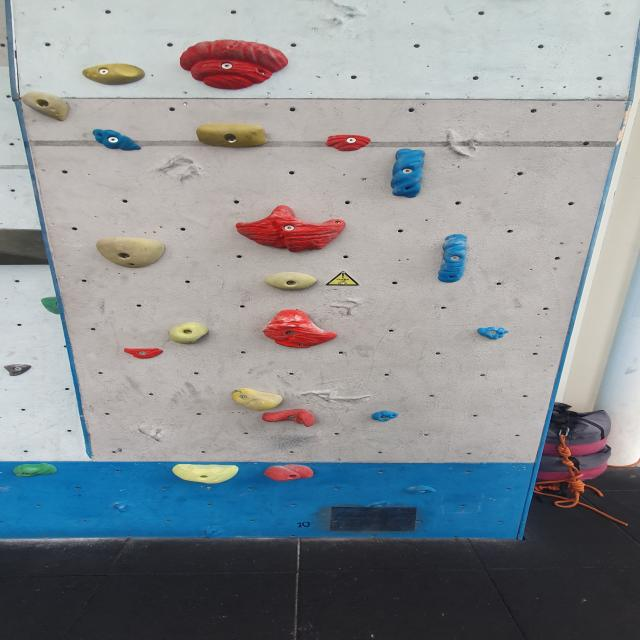Crimp: (79, 63, 148, 86), (172, 462, 242, 484), (90, 130, 143, 150), (323, 135, 373, 151), (12, 462, 61, 477), (122, 348, 165, 359), (475, 327, 511, 339), (0, 362, 32, 374), (370, 412, 401, 422)
Jug: (176, 40, 292, 89), (234, 206, 349, 254), (260, 311, 338, 350), (94, 238, 170, 270), (196, 124, 272, 150), (19, 93, 72, 123), (258, 406, 321, 429), (264, 272, 320, 292), (167, 323, 212, 346)
Pinch: (389, 150, 428, 199), (440, 232, 470, 284)
Sloper: (231, 388, 285, 411), (262, 464, 315, 481)
